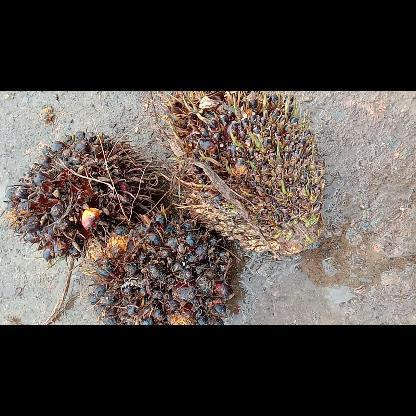TBS abnormal: (156, 91, 324, 256), (5, 128, 165, 260), (83, 204, 233, 324)
